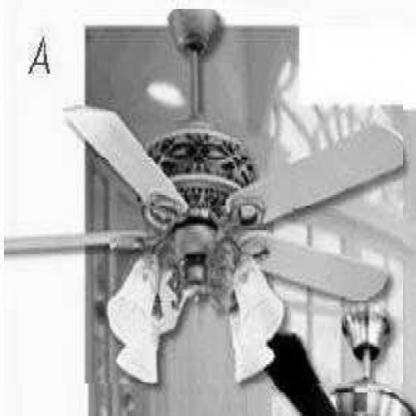ceiling-fan: (4, 9, 404, 384)
